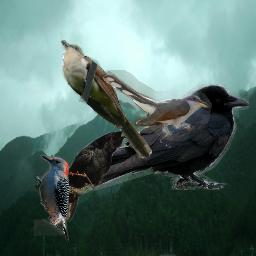Crow: (77, 84, 249, 190), (55, 126, 130, 222)
Cuckoo: (61, 40, 152, 159), (101, 70, 212, 141)
Woodpecker: (34, 153, 69, 242)
